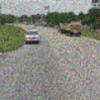cars: (24, 30, 41, 44)
